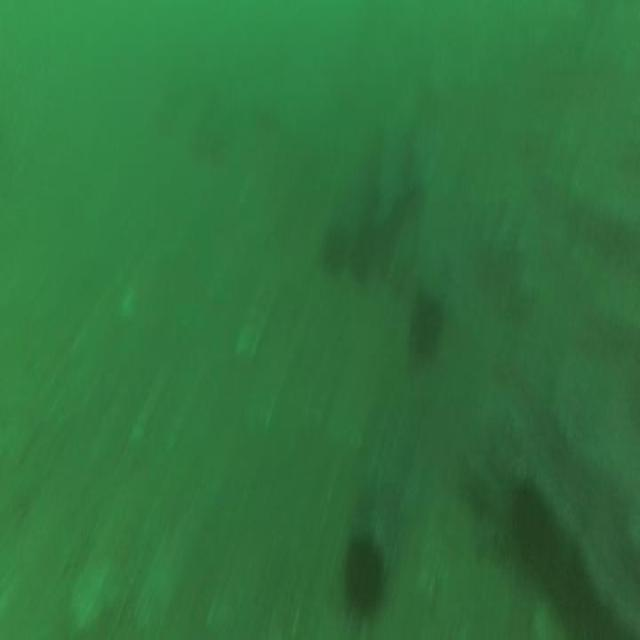echinus: (330, 509, 399, 634), (511, 474, 560, 591), (410, 280, 442, 368)
